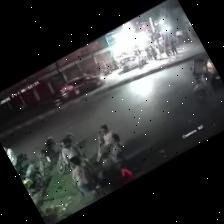person: (70, 156, 98, 191), (62, 138, 85, 167), (4, 147, 17, 168)
